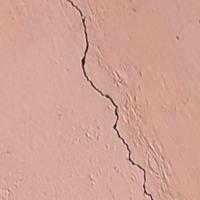crack: (58, 0, 157, 199)
